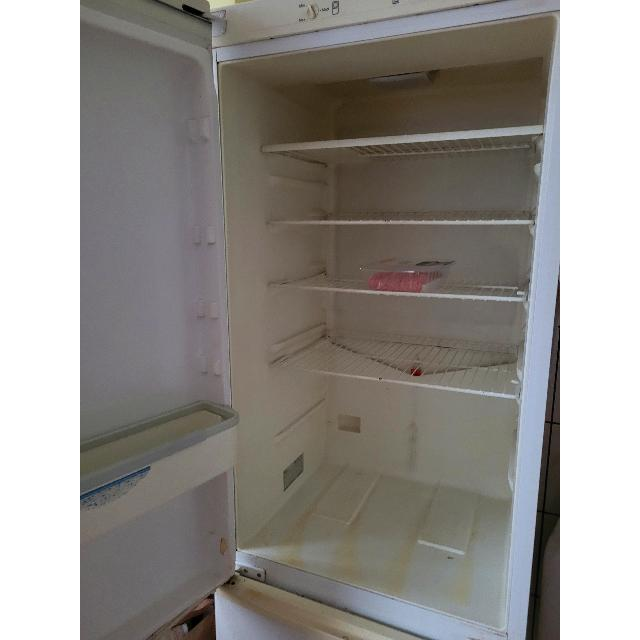meat: (368, 270, 442, 292)
